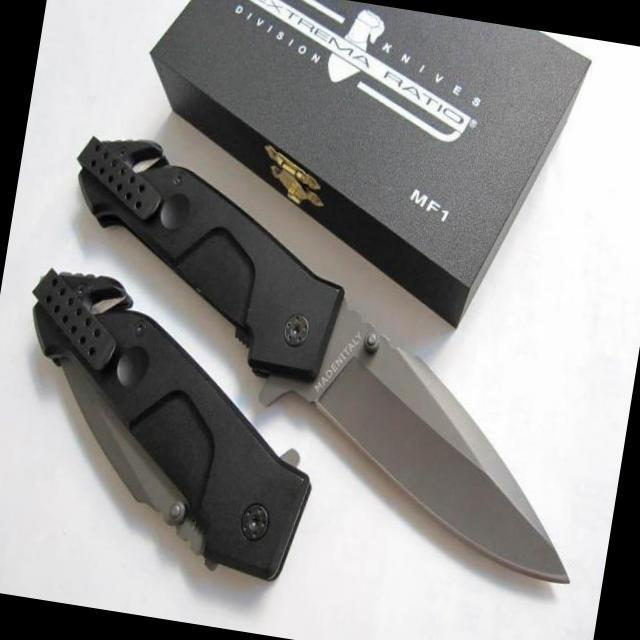Knife: (263, 297, 620, 602)
